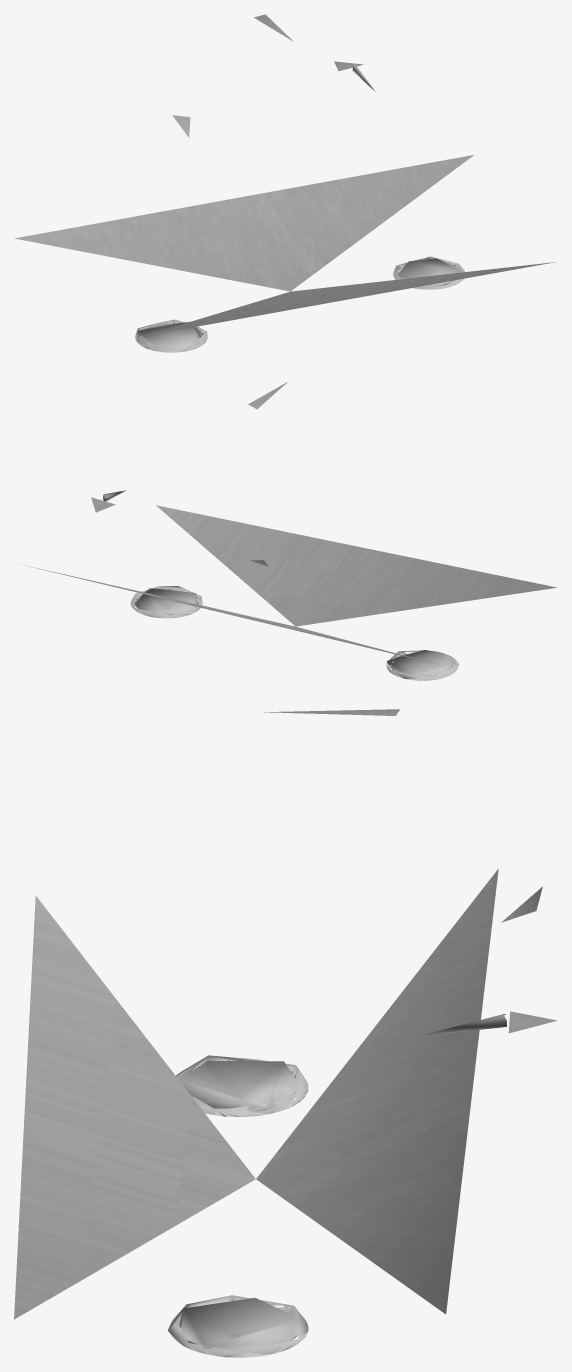
The model's file is sink.glb.
3 views of the same model, one above another, from view 1: azimuth 30°, elevation 25°; view 2: azimuth 150°, elevation 25°; view 3: azimuth 270°, elevation 25° (orthographic). The views are drawn at different scales.
Visible parts, largest first — view 1: sink; view 2: sink; view 3: sink.
Boxes of the visible parts, x1,y1,x2,y2 form: sink: [14, 14, 555, 352]; sink: [23, 381, 556, 680]; sink: [14, 709, 557, 1357].
Bounding box in the file's own units: 0.7762 × 0.4415 × 0.4277.
Materials: 1 (1 with a texture image).
